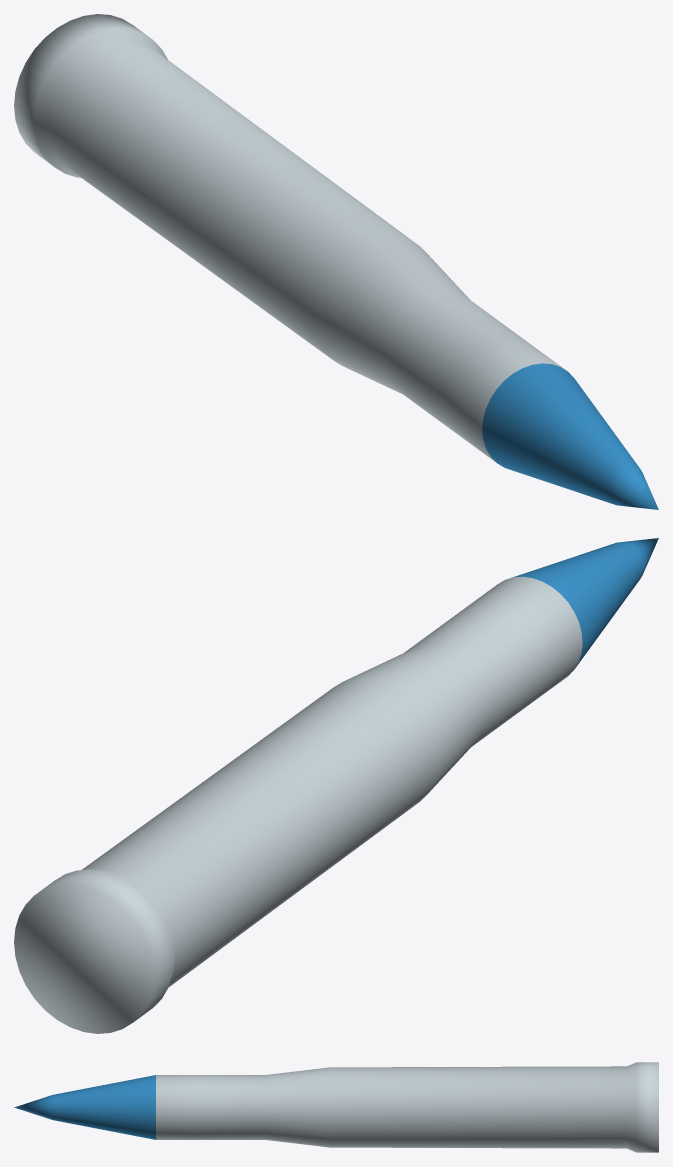
The model's file is cannon_20_round_display.glb.
3 renders of one model, top to bottom at view 1: azimuth 30°, elevation 25°; view 2: azimuth 150°, elevation 25°; view 3: azimuth 270°, elevation 25°, orthographic. The views are drawn at different scales.
Visible parts, largest first — view 1: AMMO_MESH.021; view 2: AMMO_MESH.021; view 3: AMMO_MESH.021.
Boxes of the visible parts, x1,y1,x2,y2 form: AMMO_MESH.021: (14,14,658,509); AMMO_MESH.021: (14,538,658,1033); AMMO_MESH.021: (14,1062,658,1152).
Size of the model in its own units: 0.028 by 0.028 by 0.2.
